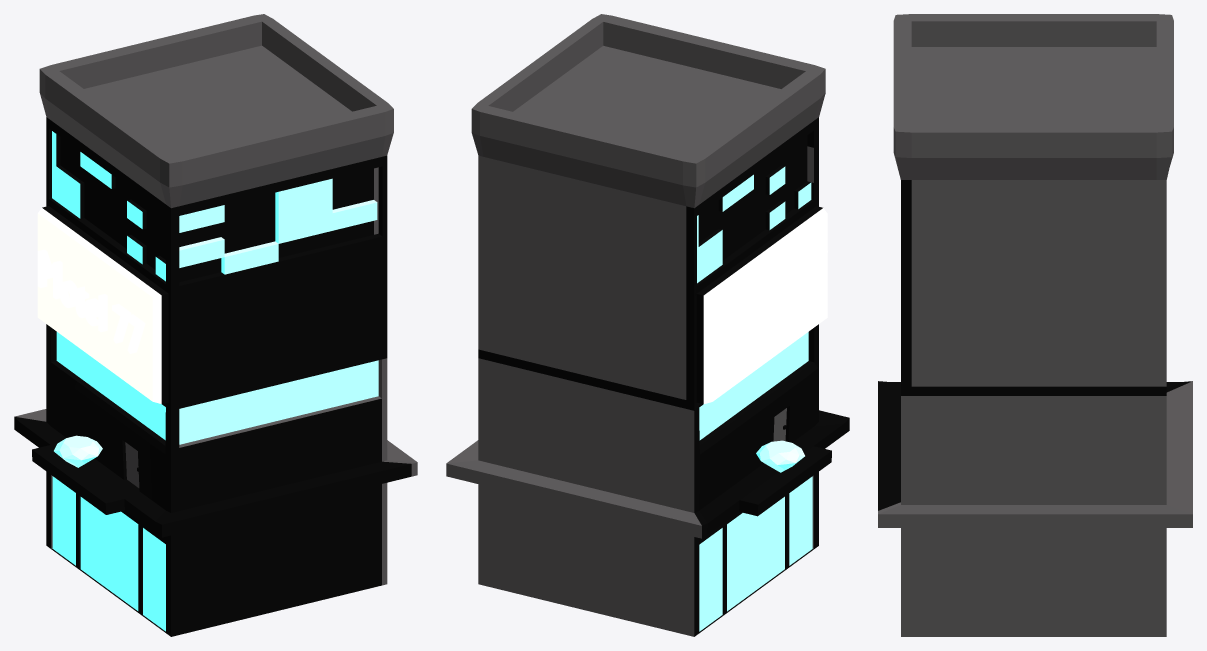
File: Building2.fbx
3 views of the same model, side by side, from view 1: azimuth 30°, elevation 25°; view 2: azimuth 150°, elevation 25°; view 3: azimuth 270°, elevation 25° (orthographic). The views are drawn at different scales.
Visible parts, largest first — view 1: Cube.002; view 2: Cube.002; view 3: Cube.002.
Boxes of the visible parts, box(x1,y1,x2,y2) form: Cube.002: box(14, 14, 417, 636); Cube.002: box(446, 14, 849, 636); Cube.002: box(878, 14, 1192, 636).
Size of the model in its own units: 1310 by 2106 by 1184.
